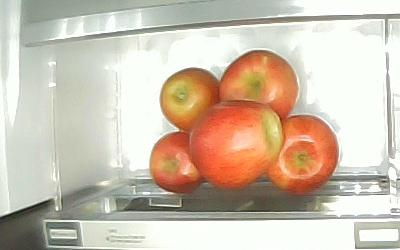apple: (190, 100, 284, 190), (268, 114, 339, 196), (219, 50, 299, 119), (158, 67, 218, 131), (149, 130, 202, 194)
